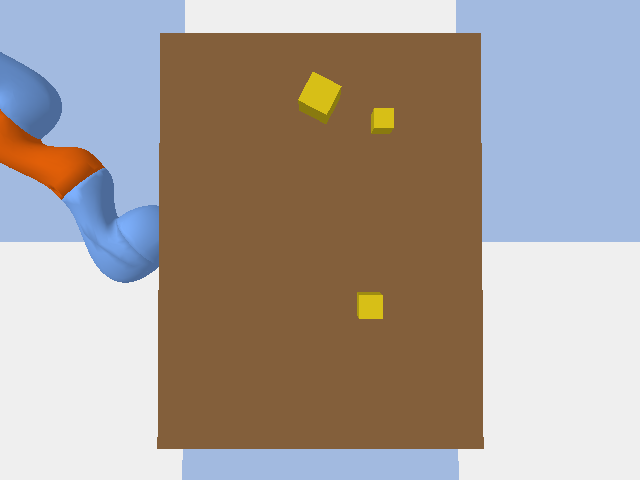yellow_obj: (298, 72, 341, 123), (357, 292, 382, 318), (371, 108, 393, 133)
